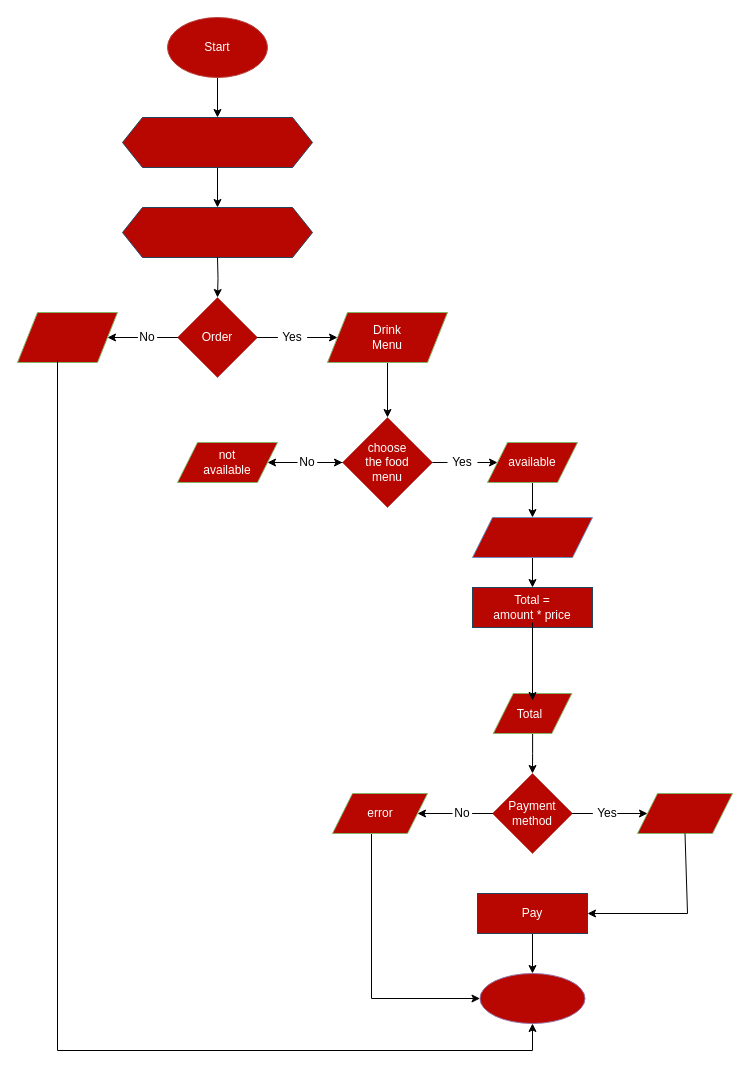
Some shapes in this 750 by 1076 pixel diagram are drawn without their labels. Here are the shapes that lost their labels. From the top down, the box of each, then its label:
(122, 116, 312, 168): name,address,drinkmenu : string;
(122, 206, 312, 258): amount, price, total,paymentmethod: integer;
(16, 312, 118, 362): Cancel order
(472, 516, 592, 558): Input name,address
(636, 792, 732, 834): 1. cash 2. bank
(479, 972, 585, 1024): End
